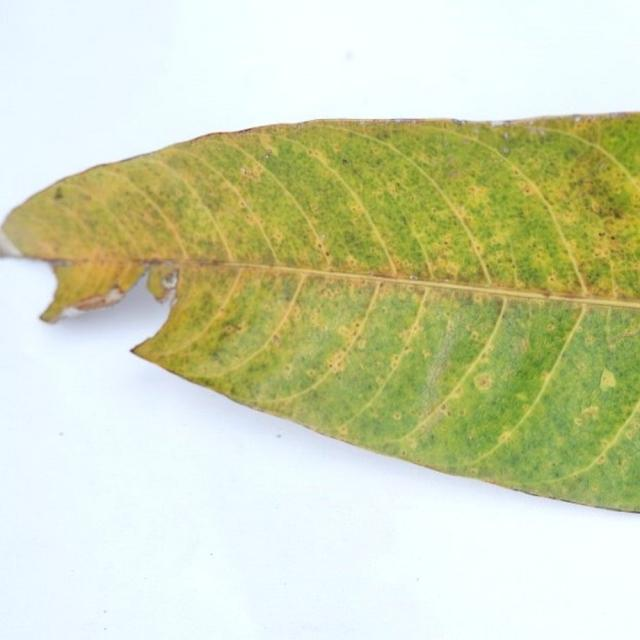Mango: (4, 114, 639, 511)
Powdery_Mildew: (368, 228, 449, 278), (583, 183, 627, 222), (318, 351, 352, 381), (339, 227, 366, 252), (255, 132, 278, 155), (326, 351, 350, 372), (474, 371, 496, 391), (599, 368, 618, 390), (240, 163, 263, 180), (399, 327, 419, 344), (308, 149, 328, 163), (497, 429, 514, 445), (581, 405, 599, 420), (220, 324, 239, 338), (373, 128, 395, 140), (447, 386, 464, 401), (337, 325, 352, 338), (389, 355, 401, 369), (404, 438, 418, 450), (623, 327, 639, 337), (355, 338, 368, 350), (522, 184, 536, 195), (624, 426, 635, 440), (514, 392, 529, 402), (584, 335, 596, 346), (421, 349, 432, 360), (439, 404, 450, 415), (467, 431, 478, 442), (337, 425, 349, 435), (469, 331, 480, 341), (574, 416, 584, 426), (618, 458, 627, 469), (305, 369, 315, 378), (375, 376, 385, 385), (272, 334, 281, 344), (546, 323, 556, 332), (596, 455, 606, 464), (392, 412, 402, 420), (542, 291, 553, 298), (474, 244, 482, 252), (285, 363, 292, 372), (548, 275, 556, 282), (240, 201, 247, 208), (598, 231, 606, 237), (240, 167, 246, 174), (317, 243, 323, 249), (368, 270, 374, 276), (355, 322, 361, 327), (320, 234, 325, 240), (325, 251, 330, 256)
